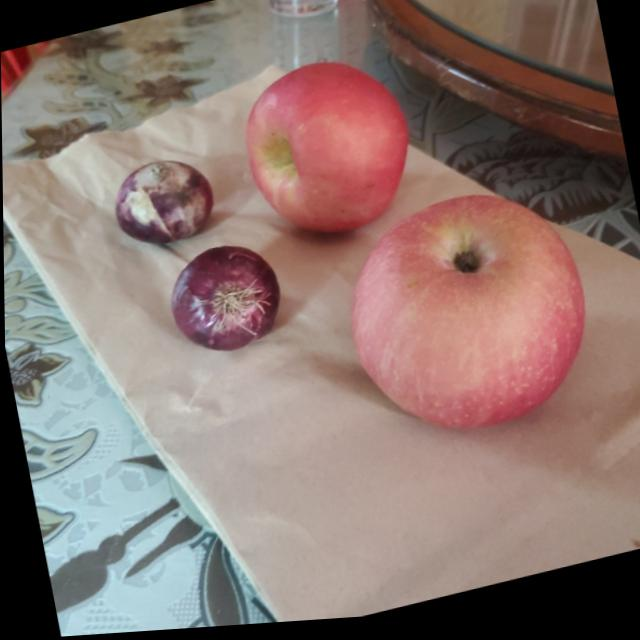apple: (330, 180, 601, 461), (237, 44, 426, 250)
onion: (162, 237, 285, 364), (109, 152, 219, 256)
